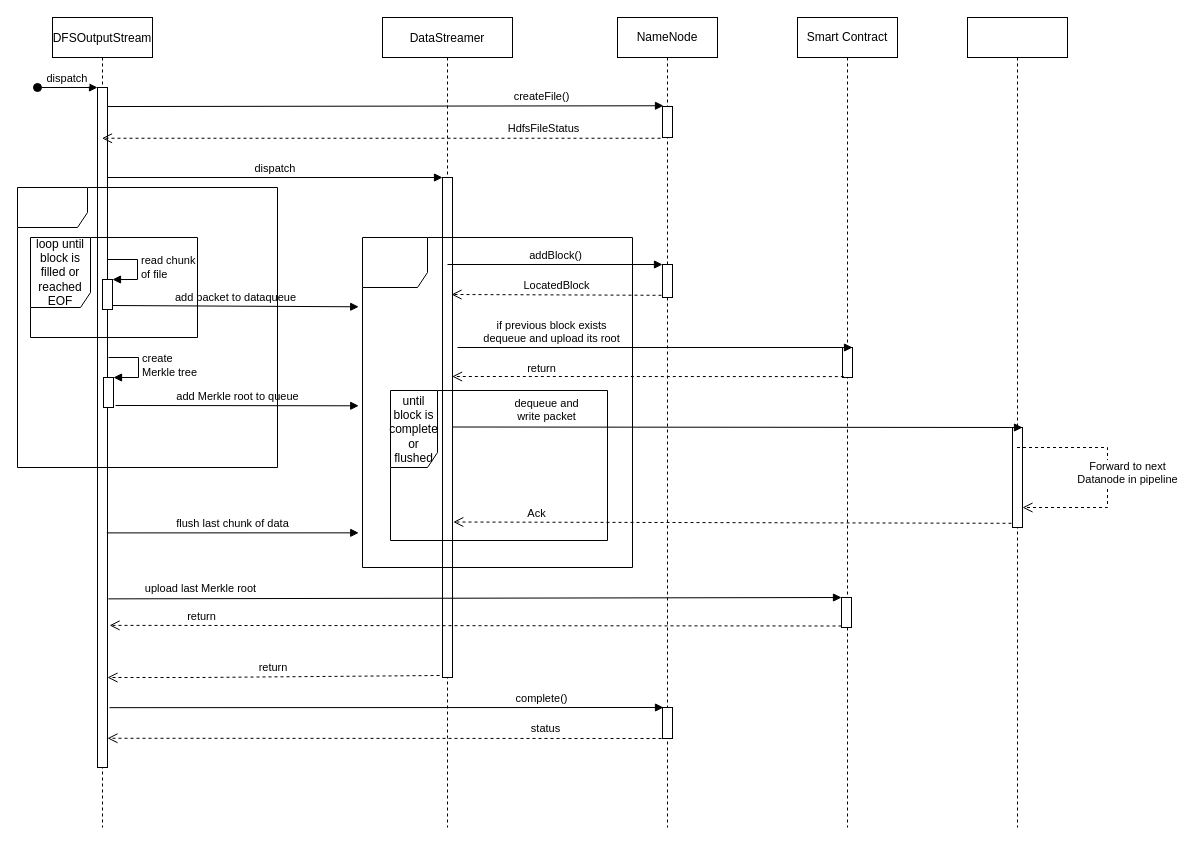
This 1195x845 diagram has some shape labels left out. The centre of each missing label's shape, as x and y in pixels:
"DataNode1" goes at (1017,422).
"poll for packets in dataqueue" goes at (497,402).
"read all file content" goes at (147,327).
